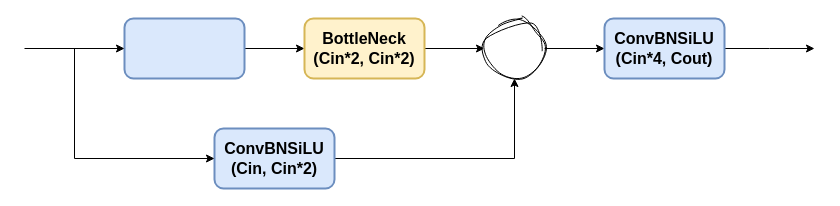
Image size: 840x206. Some labels were removed from this diagram. The shapes that lost their labels are listed below. From the top down, each one's centre as x and y in pixels, then its label:
(x=184, y=48): ConvBNSiLU （Cin, Cin*2）
(x=514, y=48): concat
